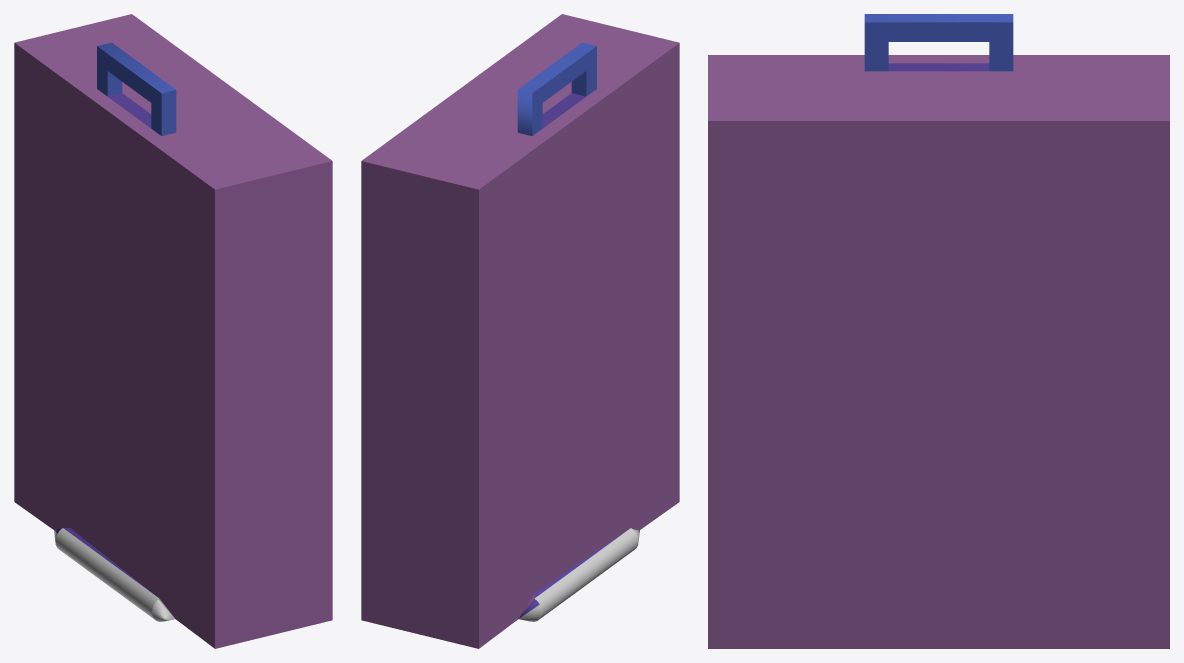
File: lounge1.fbx
The picture shows the model from 3 angles, left to right: view 1: azimuth 30°, elevation 25°; view 2: azimuth 150°, elevation 25°; view 3: azimuth 270°, elevation 25°; orthographic projection. The views are drawn at different scales.
Parts seen in each view (by area): view 1: lounge2; view 2: lounge2; view 3: lounge2.
Part boxes in pixels (left/top/right/bottom): lounge2: left=14, top=14, right=332, bottom=648; lounge2: left=361, top=14, right=679, bottom=648; lounge2: left=708, top=14, right=1169, bottom=648.
Bounding box in the file's own units: 22.24 × 84.74 × 60.14.
